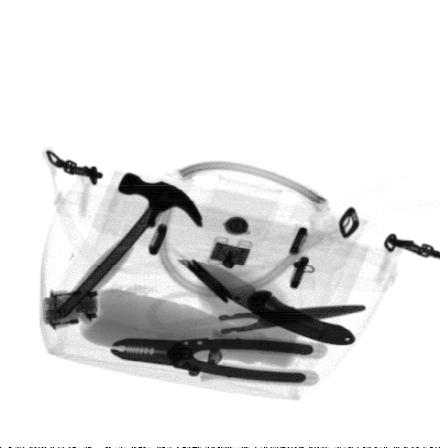Hammer: (51, 171, 206, 324)
Knife: (176, 258, 358, 347)
Pliers: (108, 336, 327, 388)
Scissors: (146, 287, 367, 358)
